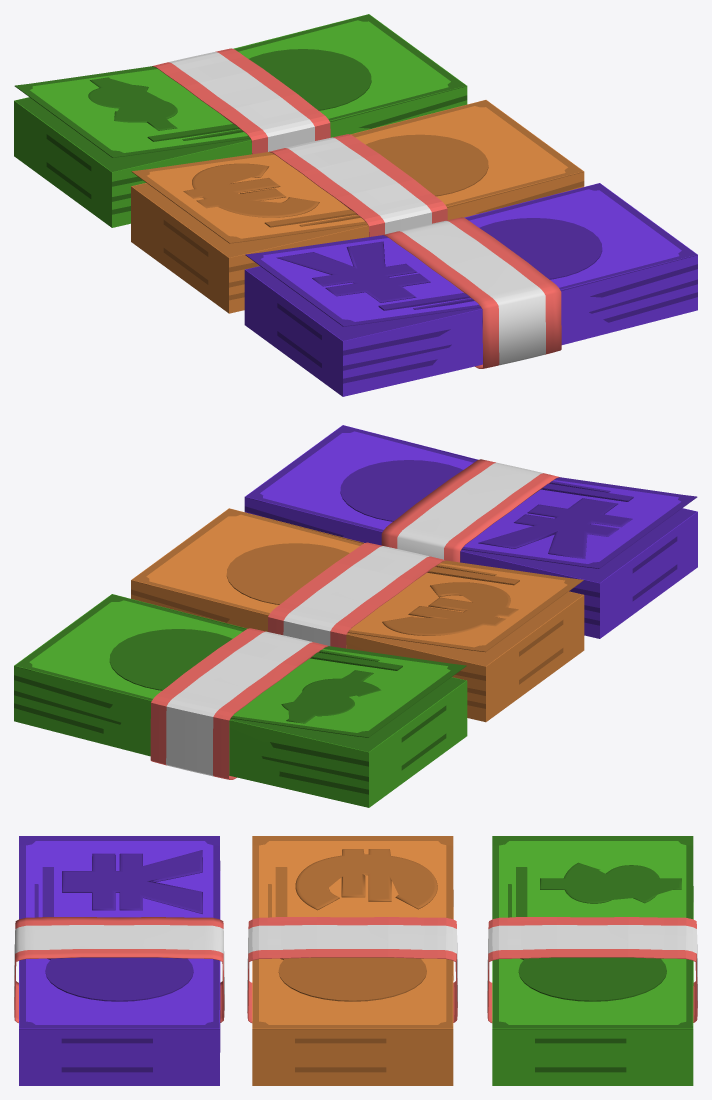
Rendered from Money.fbx.
3 views of the same model, one above another, from view 1: azimuth 30°, elevation 25°; view 2: azimuth 150°, elevation 25°; view 3: azimuth 270°, elevation 25° (orthographic). The views are drawn at different scales.
Visible parts, largest first — view 1: Yen, Dollar, Euro; view 2: Dollar, Euro, Yen; view 3: Euro, Dollar, Yen.
Part boxes in pixels (left/top/right/bottom): Yen: left=244, top=183, right=697, bottom=396; Dollar: left=14, top=14, right=467, bottom=227; Euro: left=131, top=100, right=584, bottom=313; Dollar: left=14, top=594, right=467, bottom=807; Euro: left=131, top=508, right=584, bottom=722; Yen: left=244, top=425, right=697, bottom=638; Euro: left=247, top=836, right=457, bottom=1085; Dollar: left=487, top=836, right=697, bottom=1085; Yen: left=14, top=836, right=224, bottom=1085.
Bounding box in the file's own units: 63.05 × 13.53 × 103.
